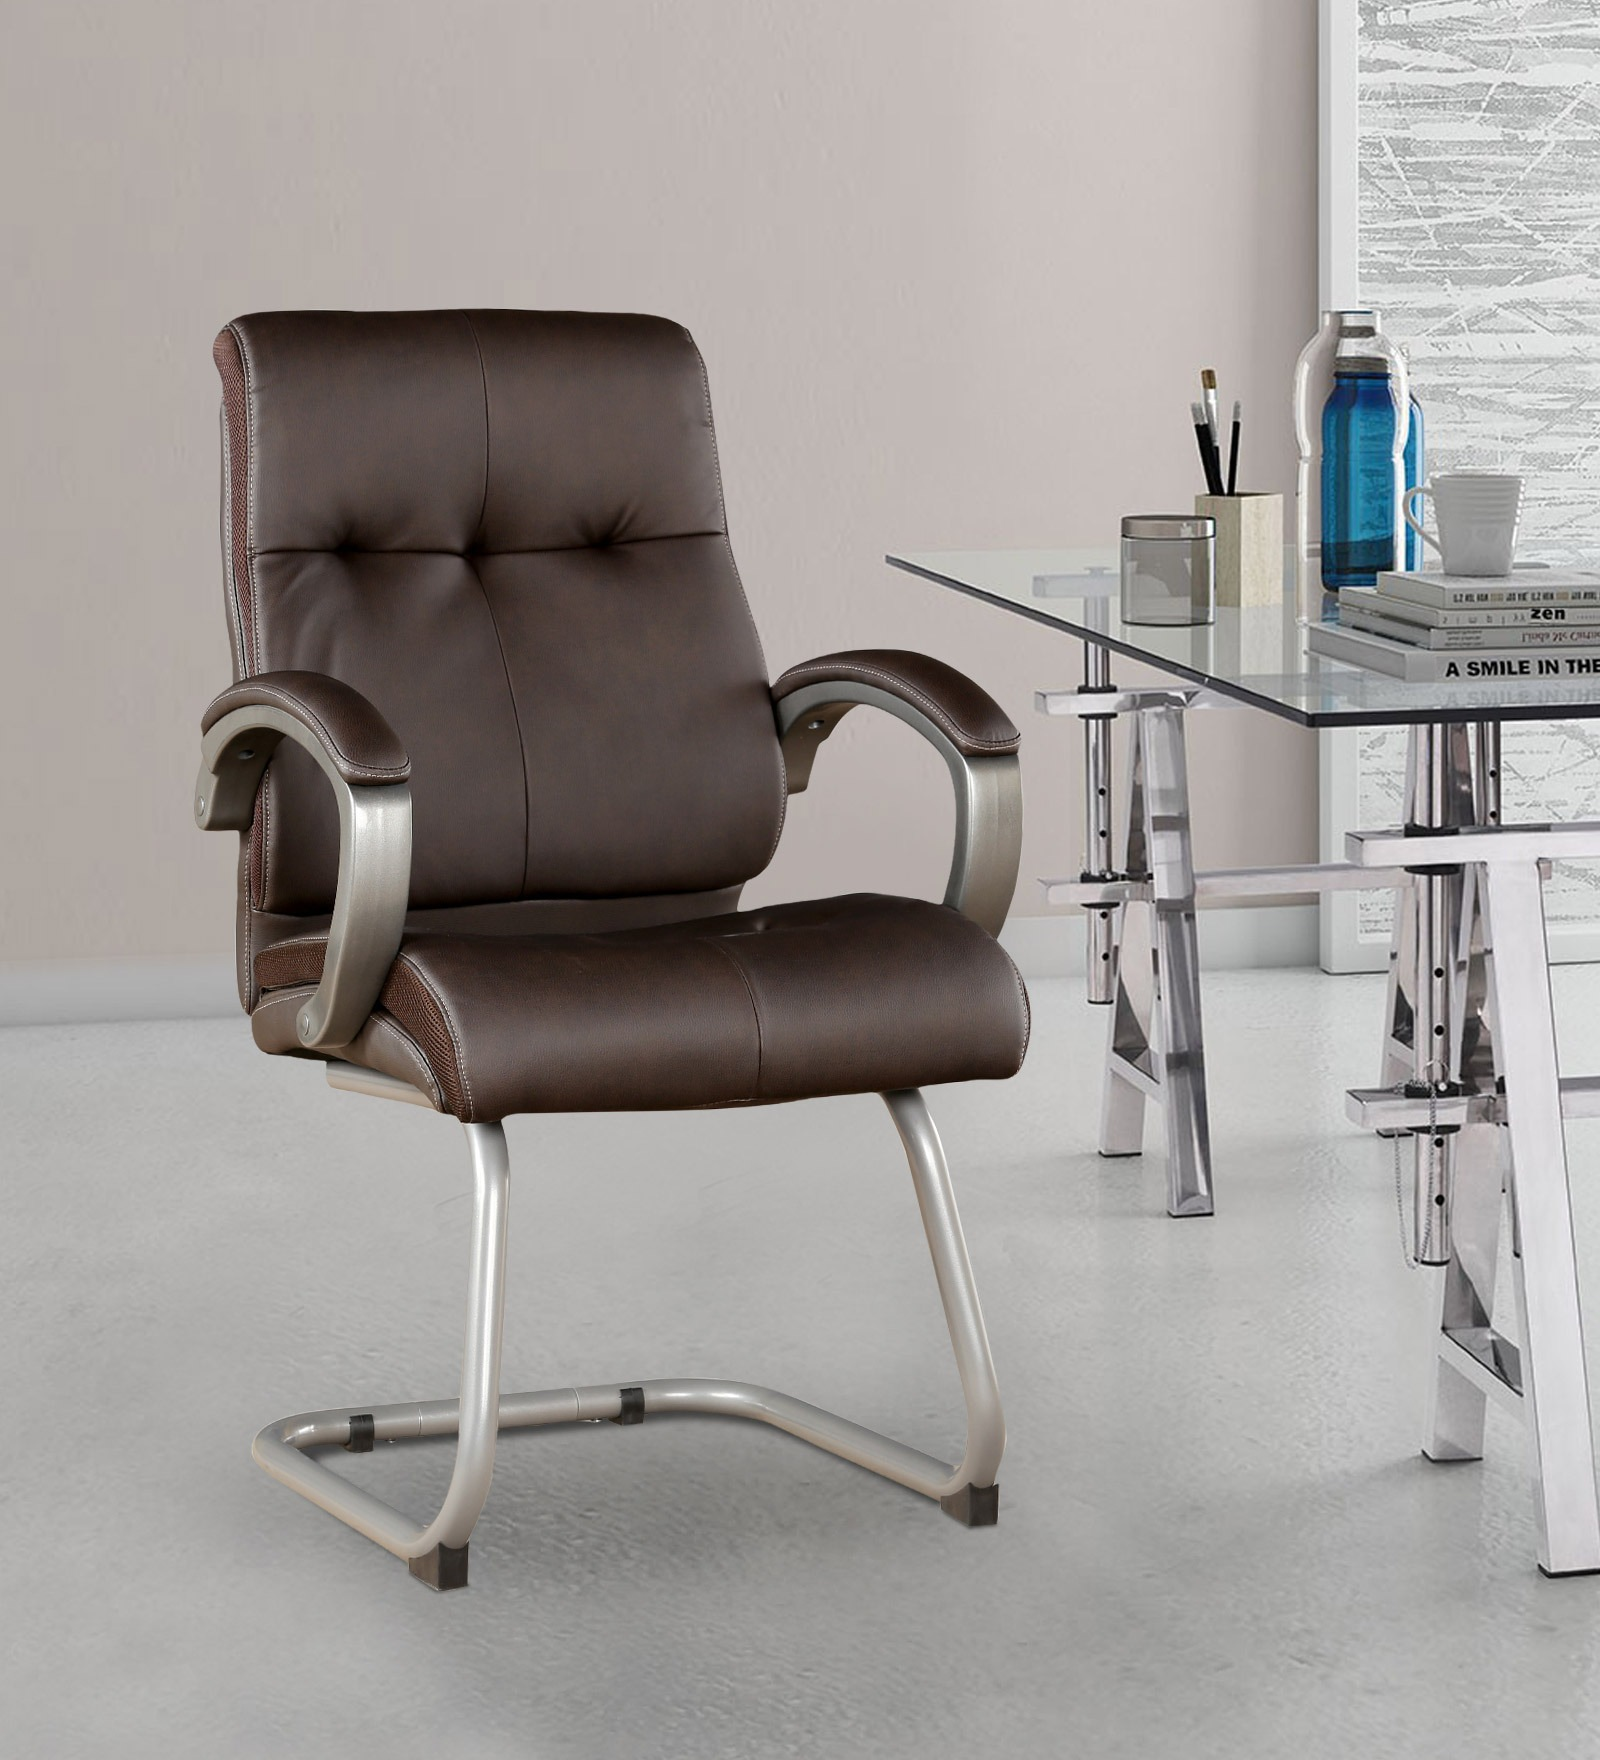Hugo Leatherette Ergonomic Chair by Hometown: (152, 296, 1054, 1599)
